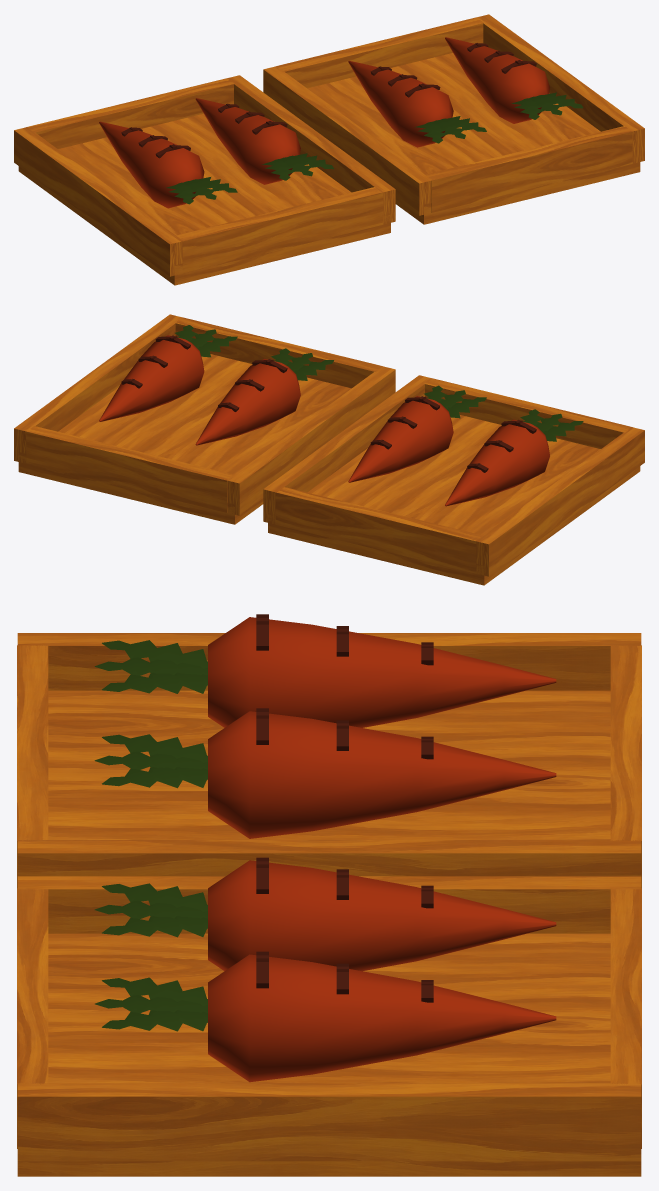
The model's file is pile-roastedCarrot-2.obj.
3 renders of one model, top to bottom at view 1: azimuth 30°, elevation 25°; view 2: azimuth 150°, elevation 25°; view 3: azimuth 270°, elevation 25°, orthographic. The views are drawn at different scales.
Visible parts, largest first — view 1: pile-roastedCarrot-2; view 2: pile-roastedCarrot-2; view 3: pile-roastedCarrot-2.
Part boxes in pixels (x1,y1,x2,y2): pile-roastedCarrot-2: (14,14,644,285); pile-roastedCarrot-2: (14,314,644,585); pile-roastedCarrot-2: (17,614,641,1176).
Size of the model in its own units: 0.5908 by 0.0956 by 0.3365.
2 materials, 2 textured.
